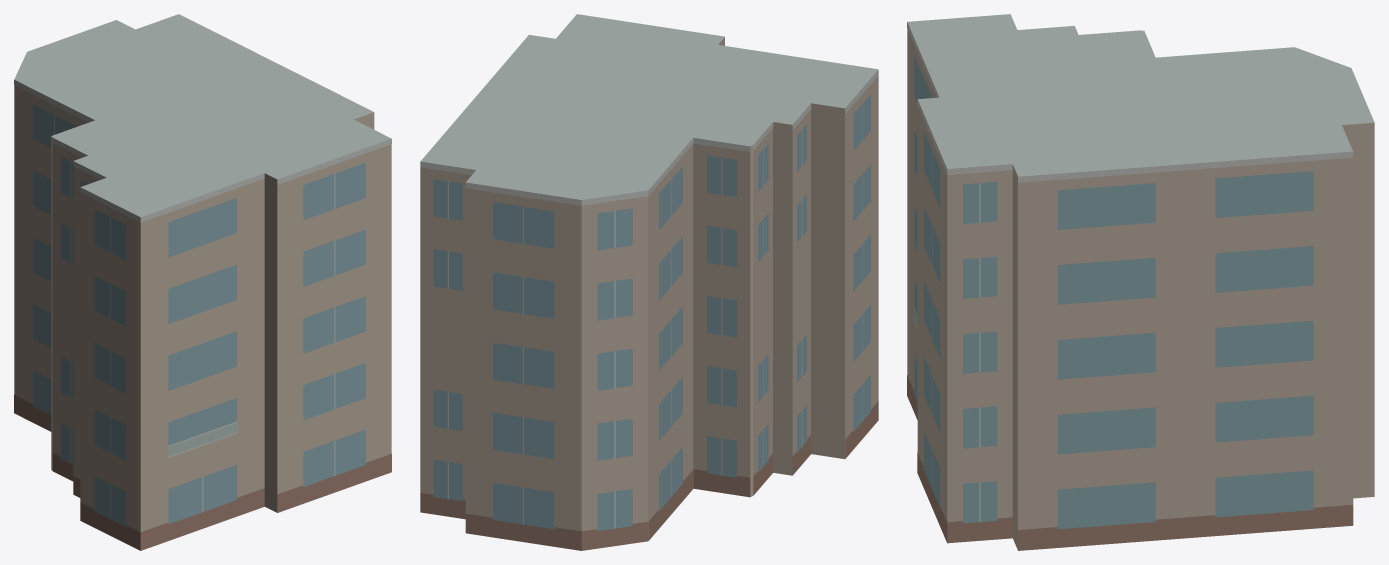
File: survey-upis-32755483.glb
3 views of the same model, side by side, from view 1: azimuth 30°, elevation 25°; view 2: azimuth 150°, elevation 25°; view 3: azimuth 270°, elevation 25° (orthographic). The views are drawn at different scales.
Parts seen in each view (by area): view 1: survey-upis-32755483.tmp; view 2: survey-upis-32755483.tmp; view 3: survey-upis-32755483.tmp.
Part boxes in pixels (left/top/right/bottom): survey-upis-32755483.tmp: left=14, top=14, right=391, bottom=550; survey-upis-32755483.tmp: left=420, top=14, right=878, bottom=550; survey-upis-32755483.tmp: left=907, top=14, right=1374, bottom=550.
Size of the model in its own units: 13.95 by 14.95 by 16.94.
